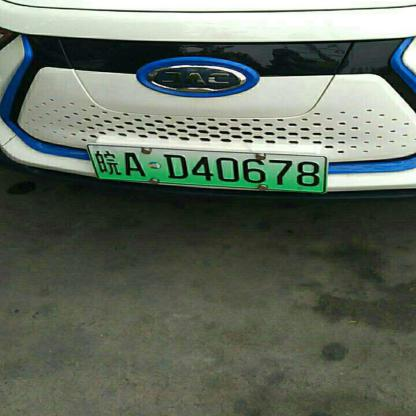lp: (88, 145, 325, 190)
